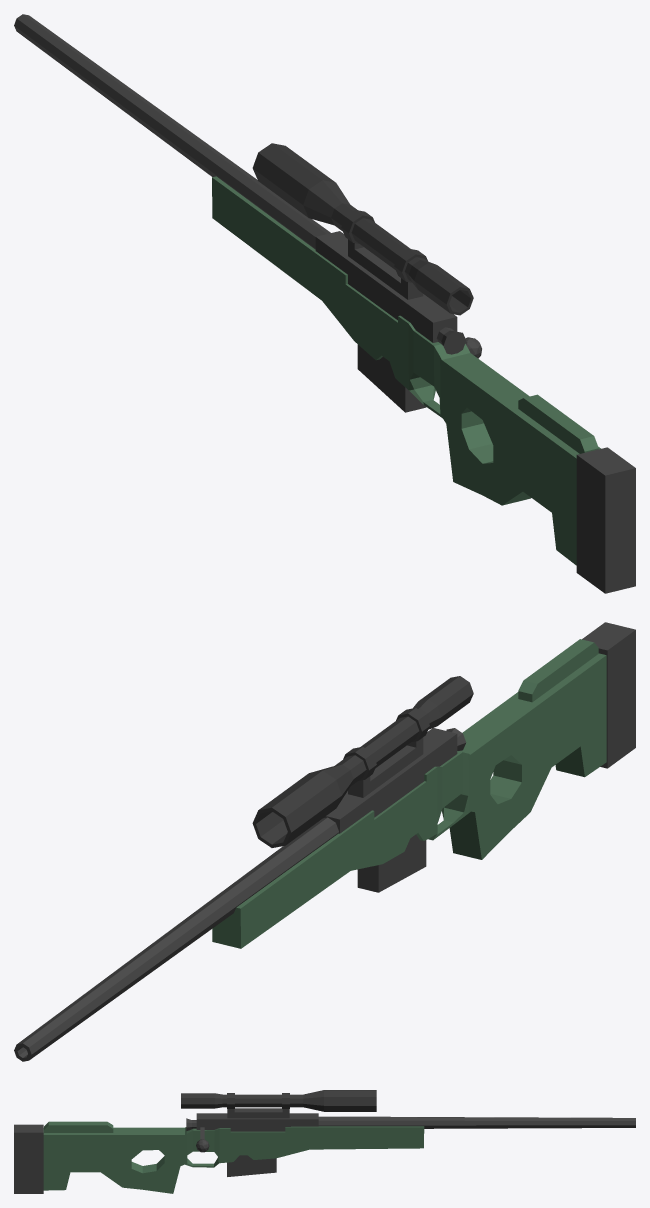
Rendered from AWP.glb.
3 views of the same model, one above another, from view 1: azimuth 30°, elevation 25°; view 2: azimuth 150°, elevation 25°; view 3: azimuth 270°, elevation 25° (orthographic). The views are drawn at different scales.
Visible parts, largest first — view 1: AWP; view 2: AWP; view 3: AWP.
Boxes of the visible parts, <box> form: AWP: <box>14,14,635,593</box>; AWP: <box>14,622,635,1061</box>; AWP: <box>14,1090,635,1193</box>.
Size of the model in its own units: 0.2687 by 0.8172 by 4.61.
